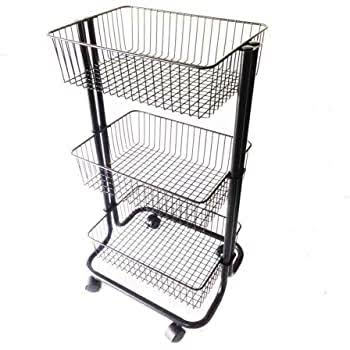Carts: (46, 4, 270, 345)
